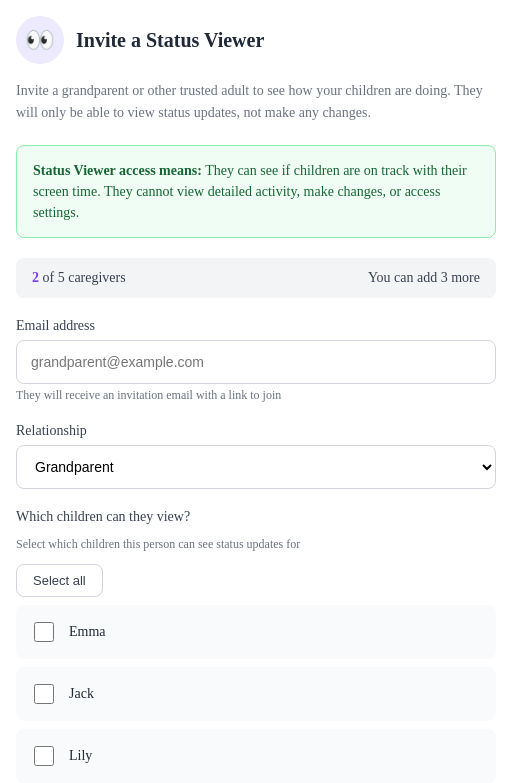
CaregiverInviteForm › Email Validation › clears error for valid email format
This screenshot has width=513, height=783.
Enter invalid email first
Type "invalid" into the field with test id "email-input".
click(256, 362); type("invalid")  # box [16,340,496,384]
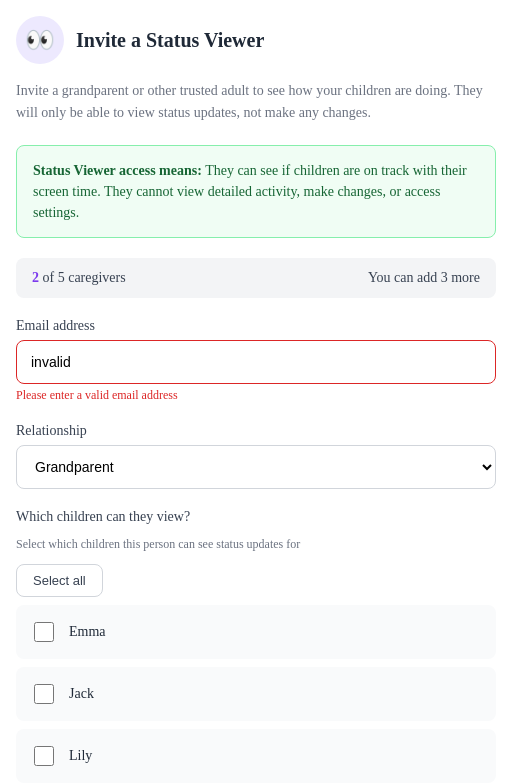
Now the text "Please enter a valid email address" is shown, box [16,388,178,402]
Then enter valid email
Replace the text in the field with test id "email-input" with "valid@example.com" at (256, 362), box [16,340,496,384]
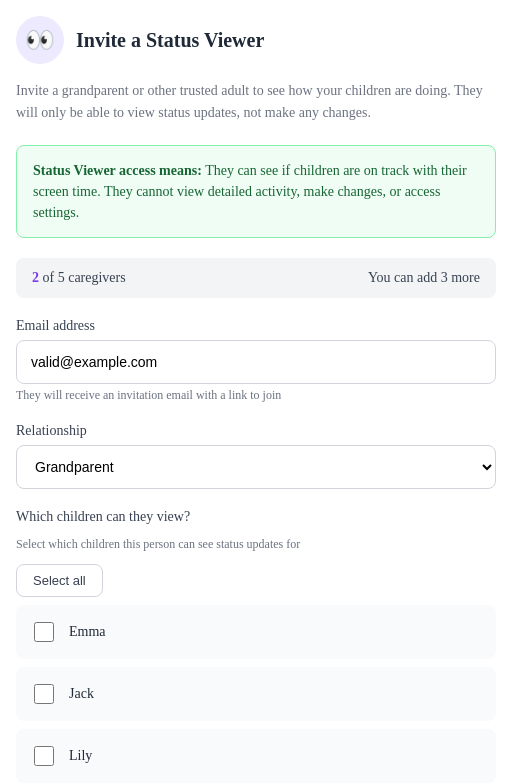
Now the text "Please enter a valid email address" is gone
